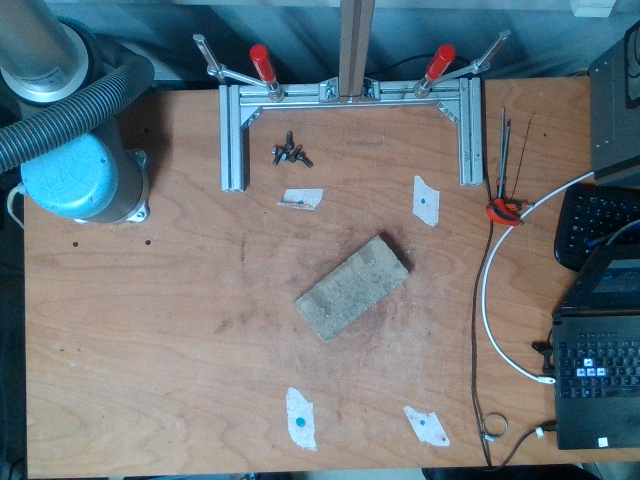brick: (297, 238, 409, 339)
